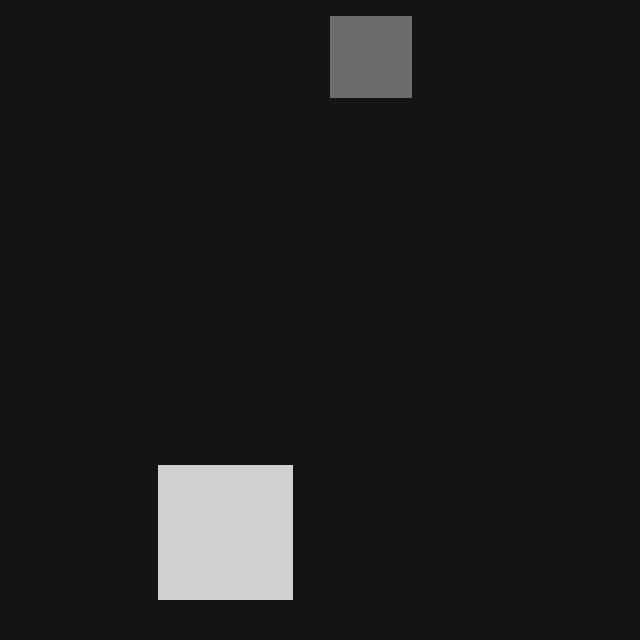square: (158, 465, 292, 599), (330, 16, 411, 97)
